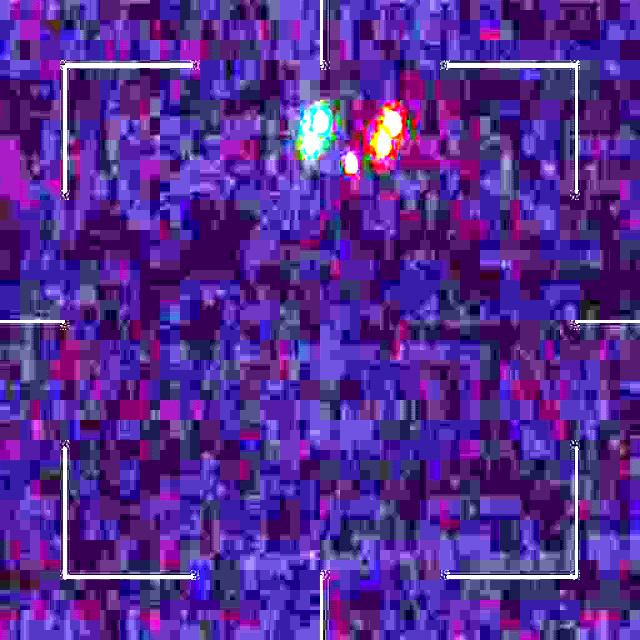bird: (304, 108, 402, 172)
